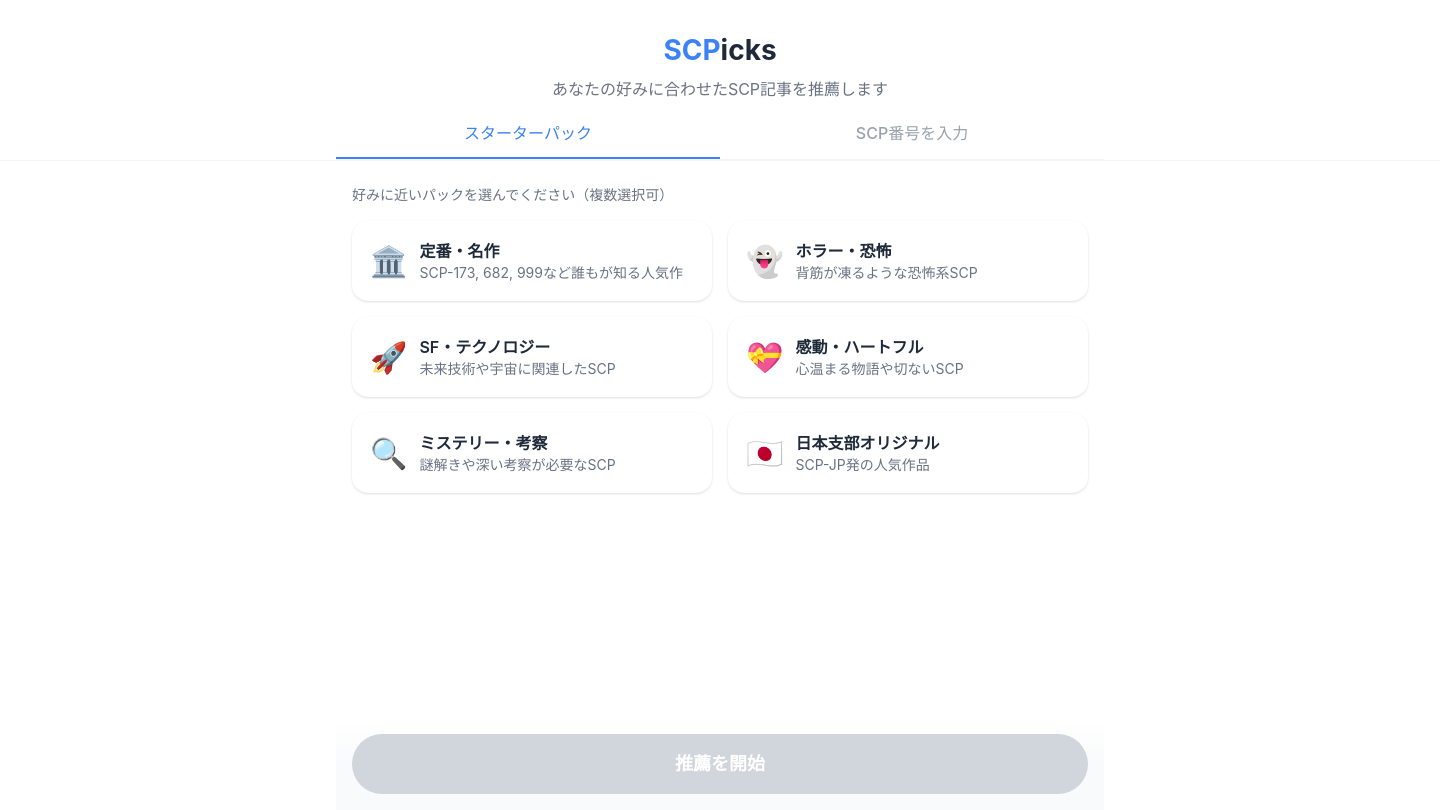
Test: OnboardingPage › AC-2: 複数パック選択対応 › パックカードをタップすると選択状態がトグルされる
Expected: the heading "ホラー・恐怖" is shown, x1=795 y1=241 x2=891 y2=261
Note: 1回クリック: 選択
Click the button "👻 ホラー・恐怖 背筋が凍るような恐怖系SCP". click: point(765, 261)
box: x1=728 y1=221 x2=1088 y2=301
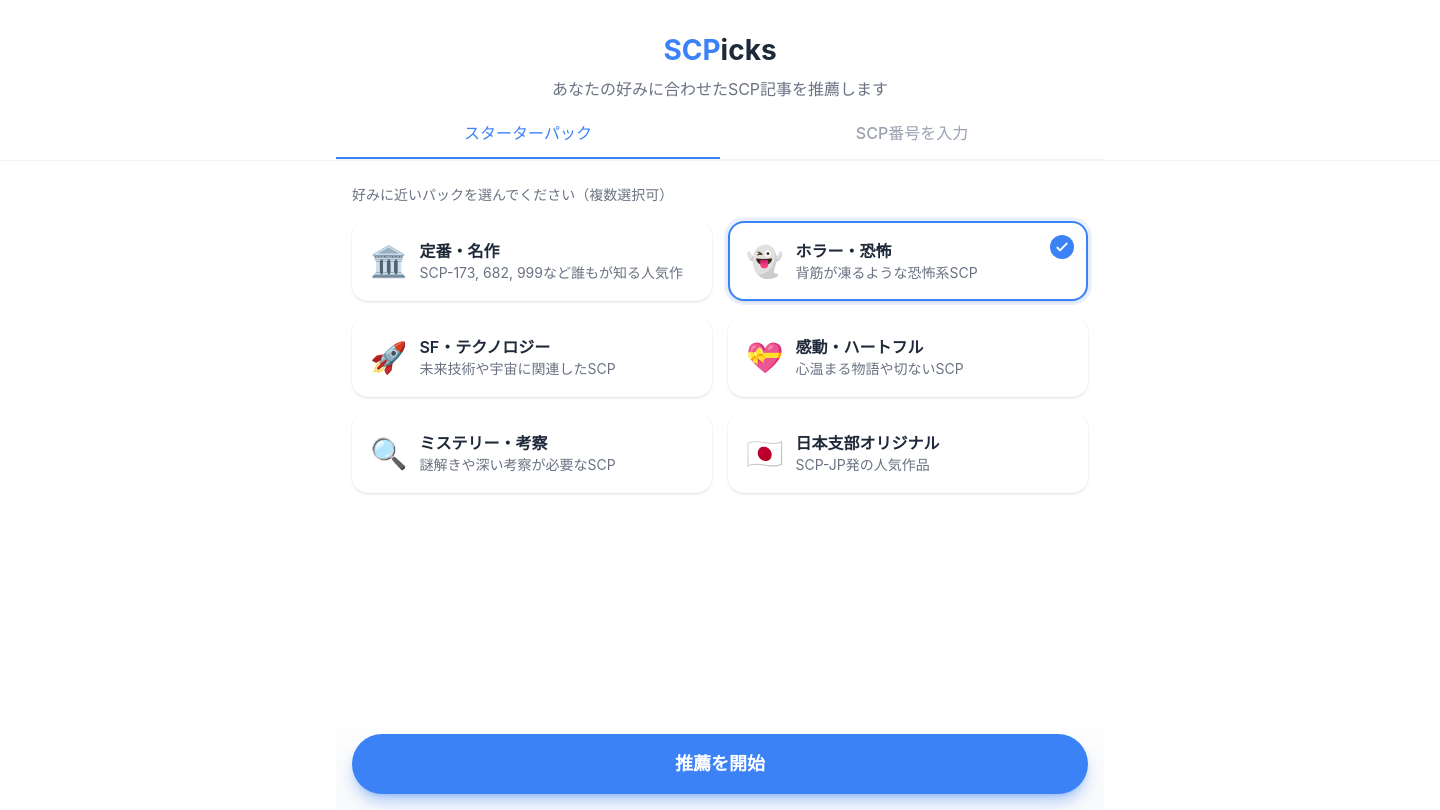
Now the element with test id "pack-check" is shown, box x1=1050 y1=235 x2=1074 y2=259
Note: 2回クリック: 選択解除
Click the button "👻 ホラー・恐怖 背筋が凍るような恐怖系SCP". click: point(765, 261)
box: x1=728 y1=221 x2=1088 y2=301
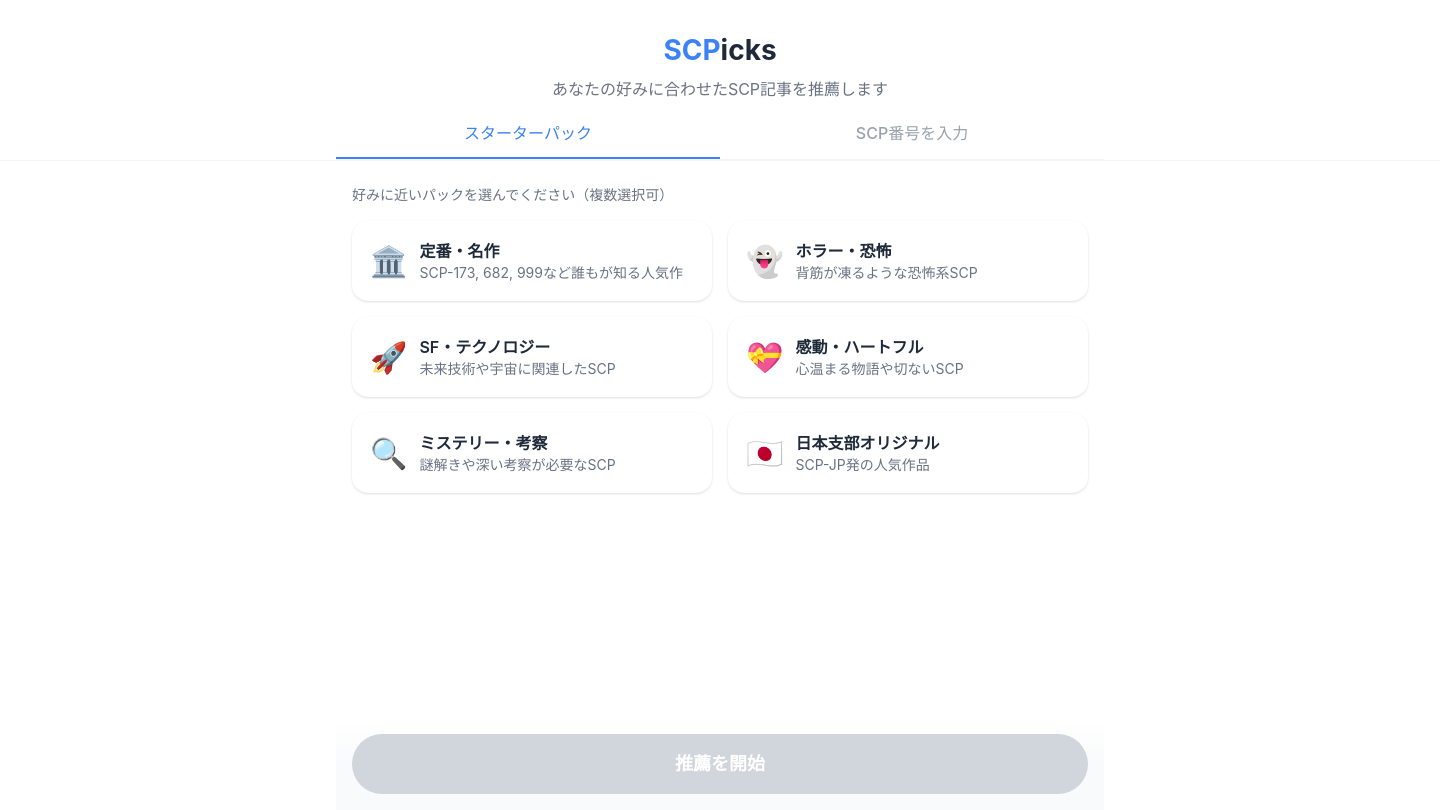
Now the element with test id "pack-check" is gone
